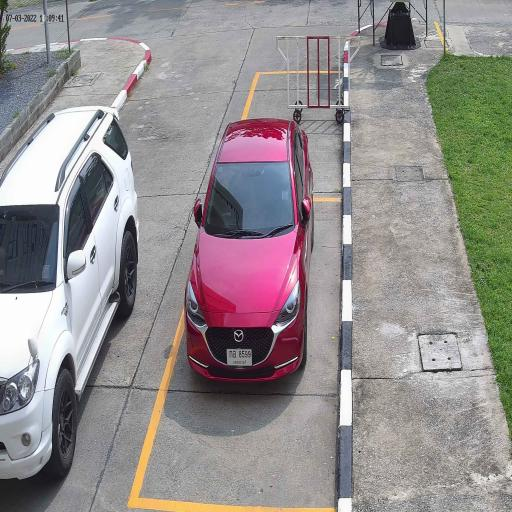car: (0, 102, 140, 483), (184, 115, 316, 385)
